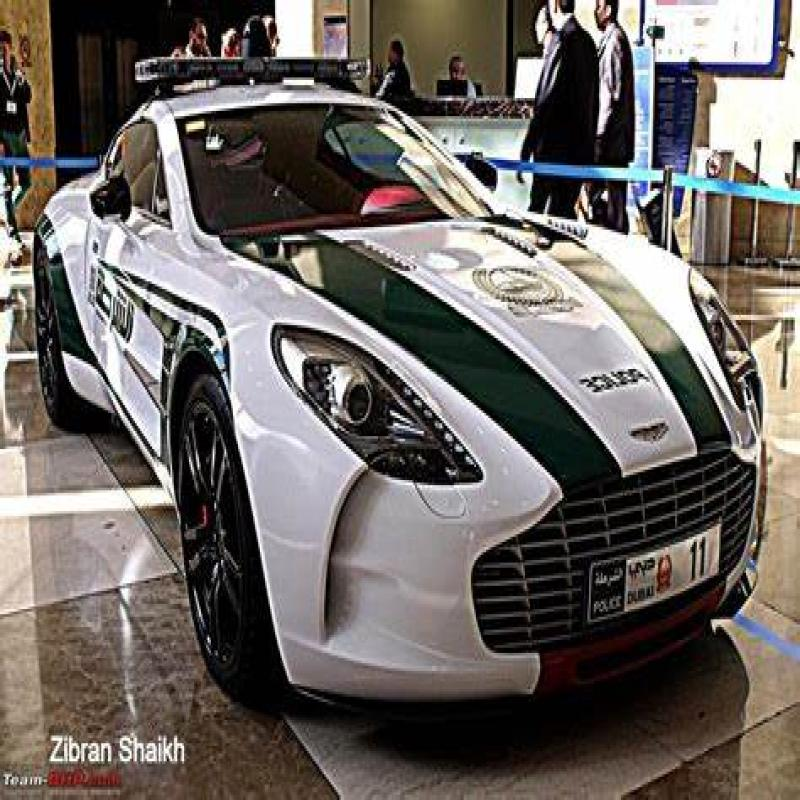AmbulanceSiren: (133, 35, 383, 105)
